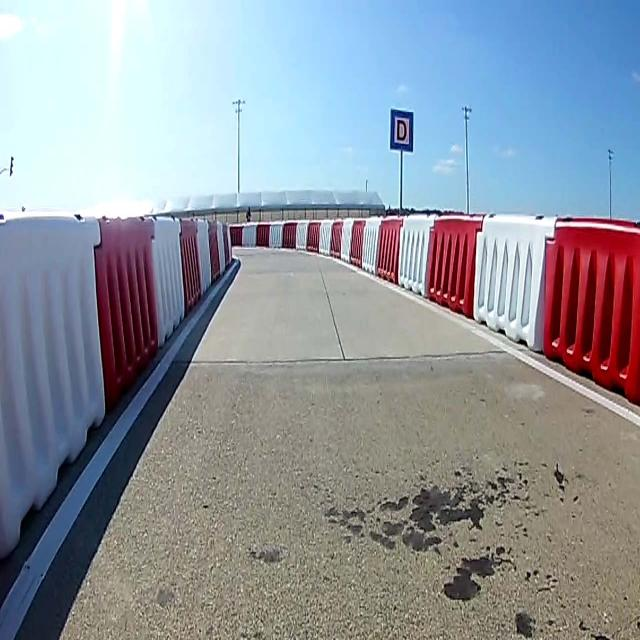durak: (389, 108, 415, 154)
